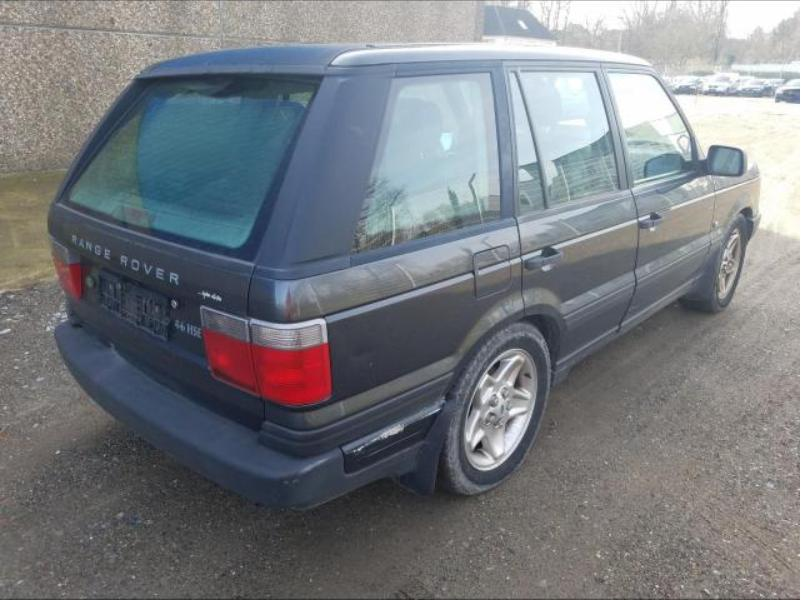Back-bumper: (56, 320, 448, 512)
Back-door: (505, 65, 640, 360)
Back-wheel: (442, 320, 555, 496)
Back-window: (353, 68, 500, 253), (505, 68, 631, 211)
Back-windshield: (57, 78, 328, 265)
Fender: (705, 162, 761, 266)
Front-door: (601, 65, 715, 320)
Front-wheel: (684, 218, 747, 311)
Front-window: (601, 70, 706, 190)
License-plate: (96, 272, 171, 338)
Mirror: (698, 146, 748, 175)
Quarter-panel: (253, 215, 526, 455)
Rocker-panel: (555, 267, 704, 383)
Roof: (131, 43, 658, 78)
Tail-light: (203, 307, 334, 406), (47, 236, 80, 303)
Trunk: (45, 201, 267, 431)
